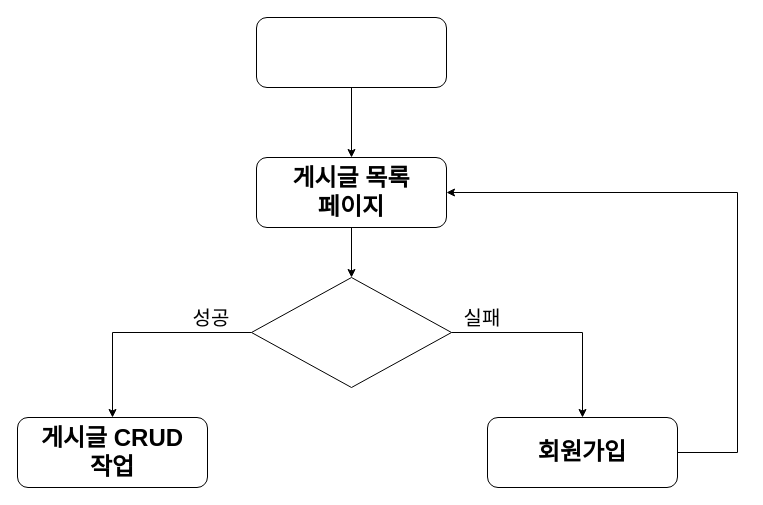
Some shapes in this 763 by 505 pixel diagram are drawn without their labels. The shapes that lost their labels are listed below. From the top down, each one's box as (x1, y1, x2, y2) in pixels, then its label:
(256, 16, 446, 88): 웹 접속
(250, 276, 452, 388): 로그인
